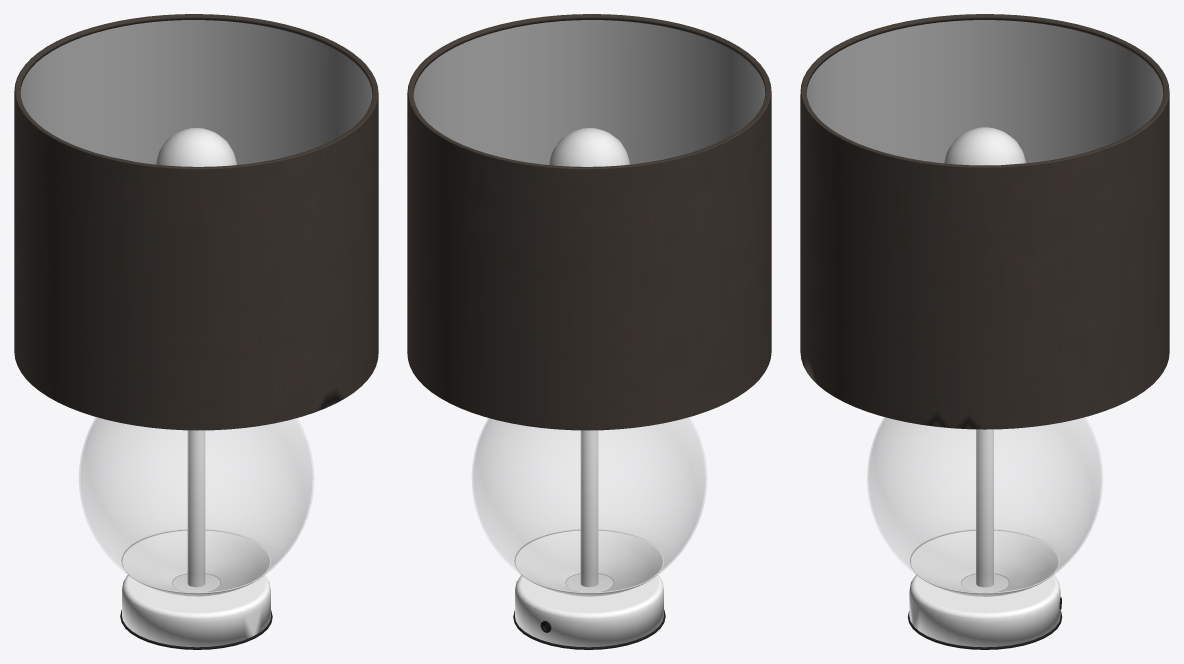
Rendered from lamp.glb.
3 views of the same model, side by side, from view 1: azimuth 30°, elevation 25°; view 2: azimuth 150°, elevation 25°; view 3: azimuth 270°, elevation 25° (orthographic).
Parts seen in each view (by area): view 1: lamp, lamp_iridescence, lamp_transmission; view 2: lamp, lamp_iridescence, lamp_transmission; view 3: lamp, lamp_iridescence, lamp_transmission.
Boxes of the visible parts, x1,y1,x2,y2 form: lamp: (14, 14, 378, 649); lamp_iridescence: (20, 20, 372, 164); lamp_transmission: (79, 417, 313, 592); lamp: (407, 14, 771, 649); lamp_iridescence: (413, 20, 765, 164); lamp_transmission: (472, 417, 706, 592); lamp: (800, 14, 1169, 649); lamp_iridescence: (806, 20, 1163, 163); lamp_transmission: (867, 417, 1102, 592).
Size of the model in its own units: 0.2971 by 0.4761 by 0.3017.
Materials: 3 (3 with a texture image).
